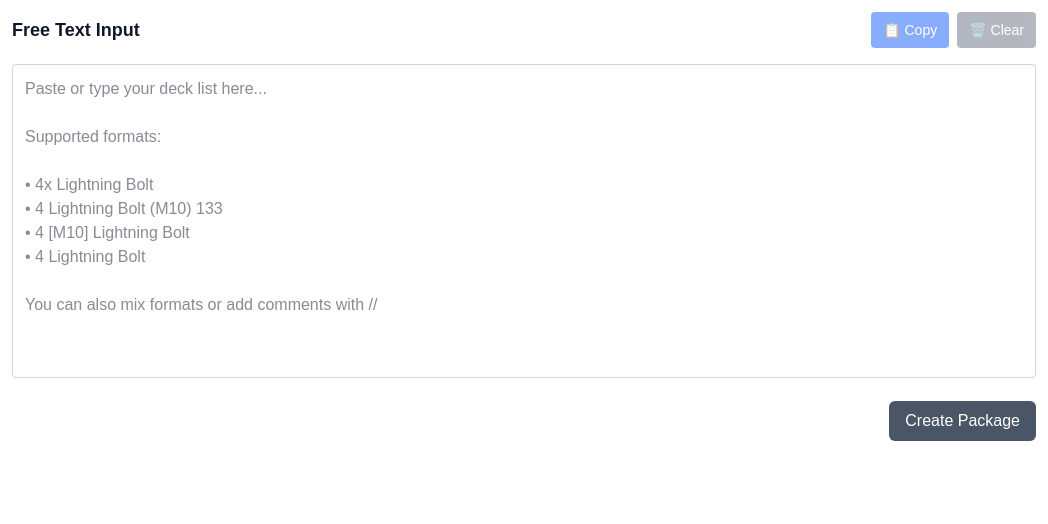
Test case: FreeTextInput › clears input when clear button is clicked
Replace the text in the text box with placeholder "Paste or type your deck list here" with "4x Lightning Bolt" at (524, 221), box [12, 64, 1036, 378]
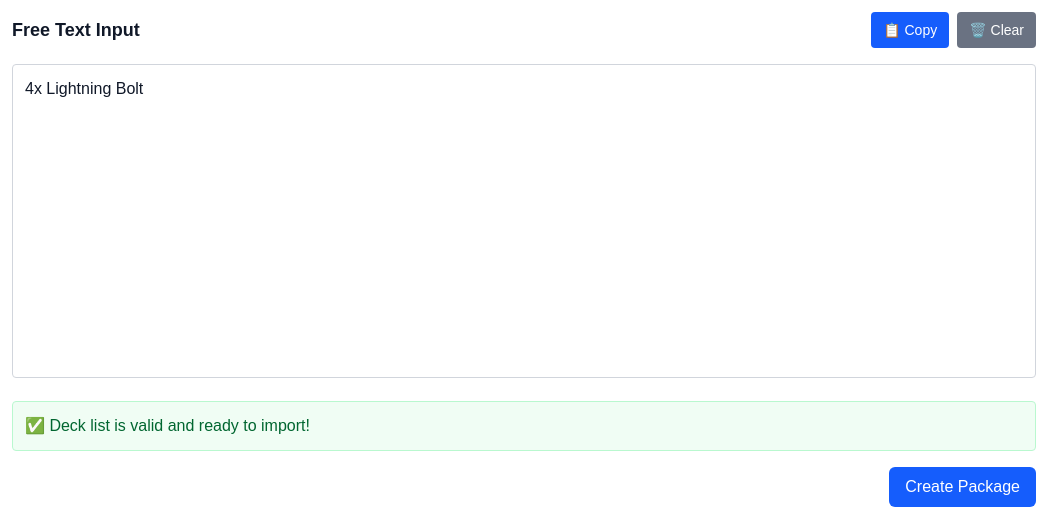
Click the button "🗑️ Clear" at (997, 30), box [957, 12, 1036, 48]
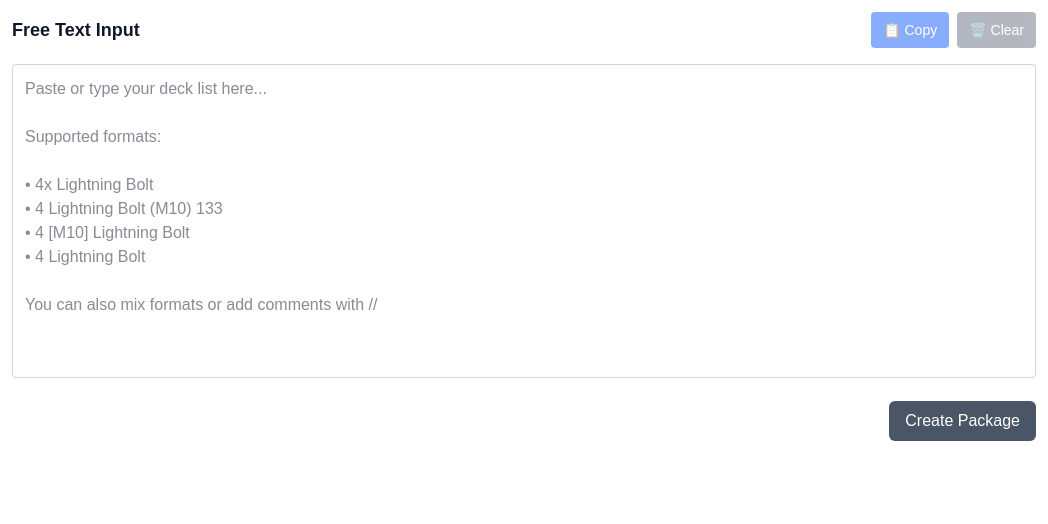
Expected: the text box with placeholder "Paste or type your deck list here" is empty, [12, 64, 1036, 378]
